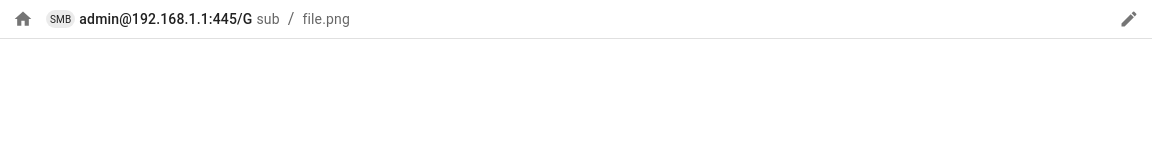
Scenario: PathBar — UUID never leaks into the editable input › pencil → input shows friendly host form, not the UUID
Expected: the button "admin@192.168.1.1:445/G" is shown, [79,8,252,30]
Step 1. Click the button named "Edit path" → x=1129, y=19, box [1114,4,1144,34]
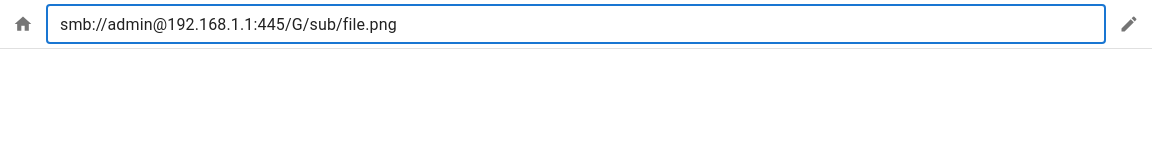
Result: the field holds "smb://admin@192.168.1.1:445/G/sub/file.png" at [46,4,1106,44]
